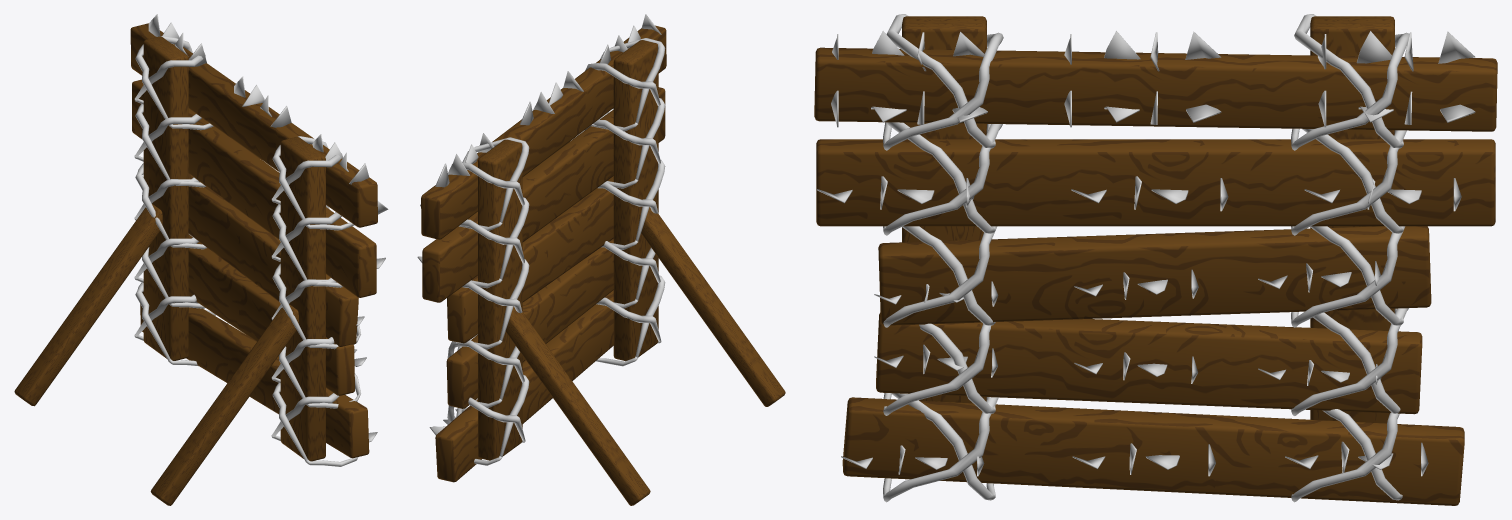
The model's file is BARRICADA DE MADEIRA.dae.
3 renders of one model, left to right at view 1: azimuth 30°, elevation 25°; view 2: azimuth 150°, elevation 25°; view 3: azimuth 270°, elevation 25°, orthographic. The views are drawn at different scales.
Parts seen in each view (by area): view 1: BARRICADA DE MADEIRA; view 2: BARRICADA DE MADEIRA; view 3: BARRICADA DE MADEIRA.
Boxes of the visible parts, left/top/right/bottom form: BARRICADA DE MADEIRA: left=14, top=14, right=388, bottom=505; BARRICADA DE MADEIRA: left=417, top=14, right=785, bottom=505; BARRICADA DE MADEIRA: left=814, top=14, right=1497, bottom=505.
Bounding box in the file's own units: 2.02 × 4.09 × 3.22.
